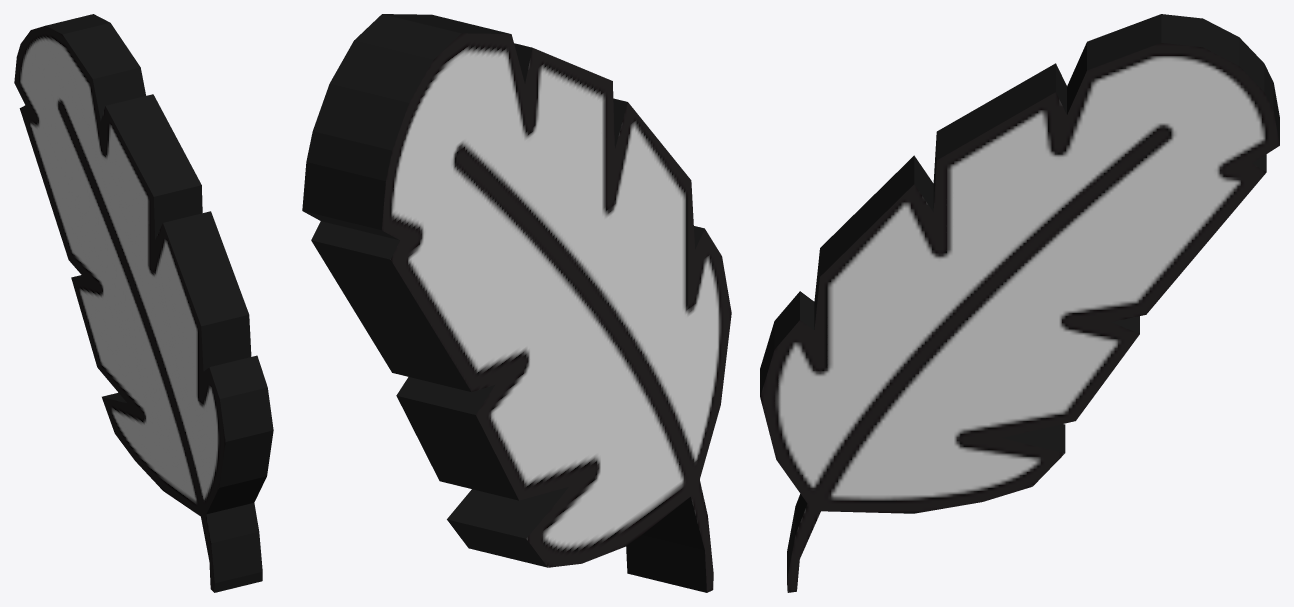
Rendered from JUMP-PU-v2.fbx.
The picture shows the model from 3 angles, left to right: view 1: azimuth 30°, elevation 25°; view 2: azimuth 150°, elevation 25°; view 3: azimuth 270°, elevation 25°; orthographic projection. The views are drawn at different scales.
Visible parts, largest first — view 1: Unknown; view 2: Unknown; view 3: Unknown.
Boxes of the visible parts, x1=… form: Unknown: x1=14, y1=14, x2=273, y2=592; Unknown: x1=302, y1=14, x2=731, y2=592; Unknown: x1=760, y1=14, x2=1279, y2=592.
Size of the model in its own units: 22.31 by 199 by 170.
2 materials, 1 textured.
